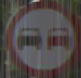No overtake: (21, 14, 73, 66)
